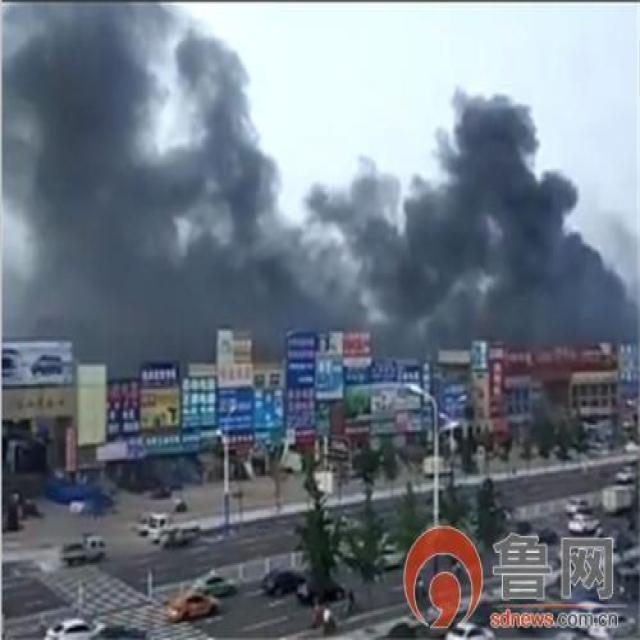Smoke: (4, 0, 365, 348), (304, 83, 640, 341)
